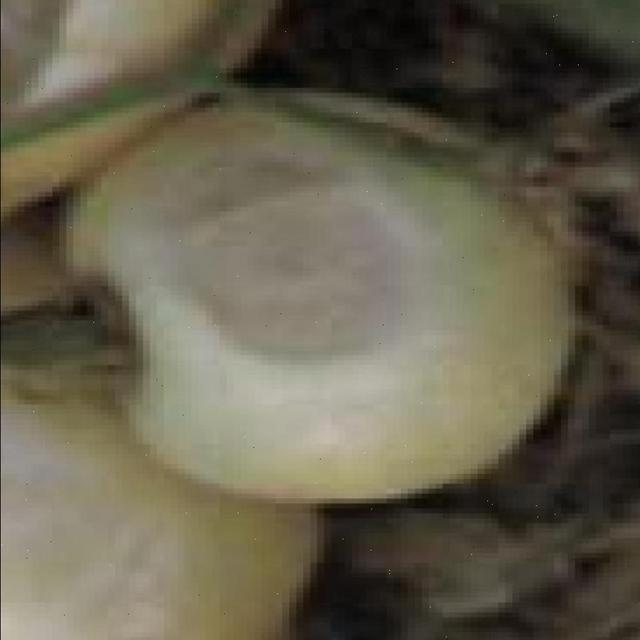Sunscald Fruit: (70, 162, 200, 342)
